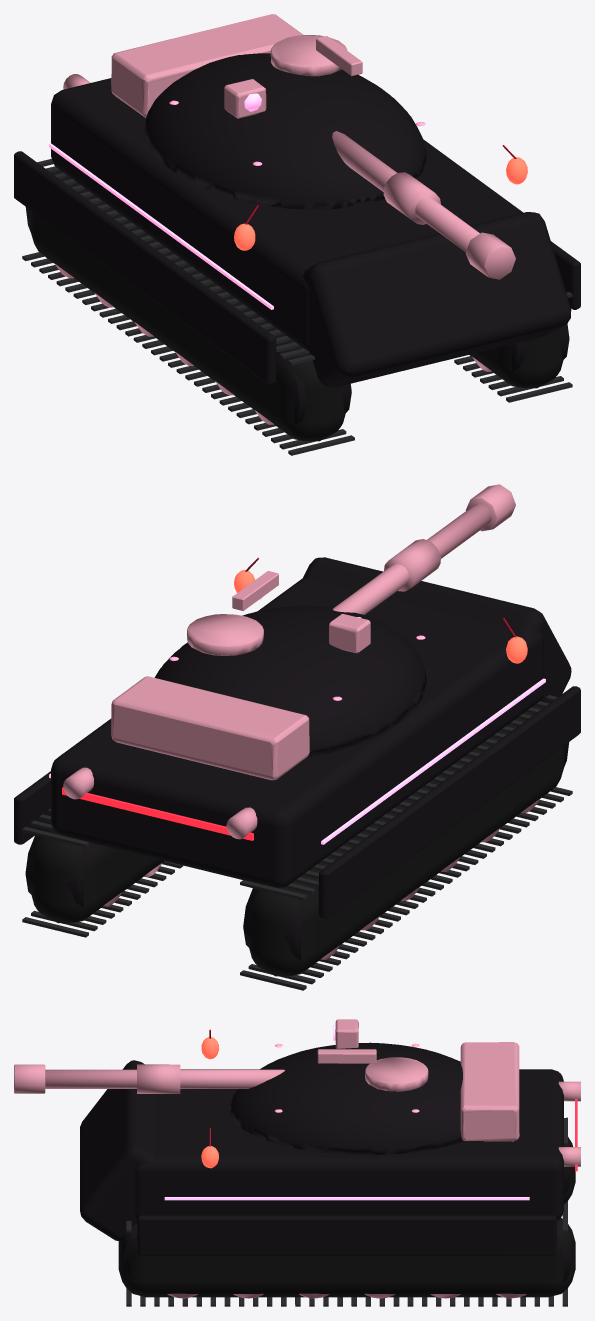
The model's file is kampvogn_sakura.glb.
3 renders of one model, top to bottom at view 1: azimuth 30°, elevation 25°; view 2: azimuth 150°, elevation 25°; view 3: azimuth 270°, elevation 25°, orthographic. The views are drawn at different scales.
Visible parts, largest first — view 1: krop_net; view 2: krop_net; view 3: krop_net.
Boxes of the visible parts, x1,y1,x2,y2 form: krop_net: (14,14,580,455); krop_net: (14,484,580,990); krop_net: (14,1019,580,1306).
Bounding box in the file's own units: 1.17 × 0.937 × 2.23.
